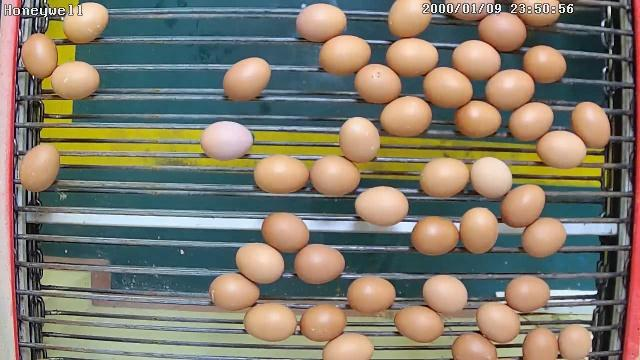egg: (378, 94, 434, 140), (252, 152, 309, 196), (242, 299, 298, 343), (354, 184, 409, 228), (422, 64, 474, 110), (292, 242, 346, 286), (384, 36, 439, 79), (198, 120, 254, 162), (17, 141, 61, 194), (318, 34, 372, 77), (308, 154, 362, 197), (222, 56, 272, 102), (476, 9, 527, 54), (234, 241, 285, 286), (484, 67, 535, 112), (294, 2, 348, 44), (60, 1, 110, 46), (337, 114, 381, 165), (451, 38, 502, 82), (207, 271, 261, 312), (498, 182, 546, 228), (260, 211, 310, 255), (410, 214, 460, 258), (353, 62, 403, 106), (49, 60, 101, 102), (344, 274, 396, 316), (418, 157, 470, 199), (392, 304, 445, 344), (474, 300, 522, 344), (421, 272, 469, 316), (299, 300, 347, 344), (520, 216, 568, 260), (570, 100, 612, 150), (536, 128, 586, 170), (459, 205, 499, 257), (452, 99, 502, 140), (507, 101, 554, 144), (522, 44, 566, 86), (470, 156, 512, 200), (504, 274, 550, 314), (20, 32, 58, 80), (387, 0, 434, 38), (557, 322, 593, 360)
